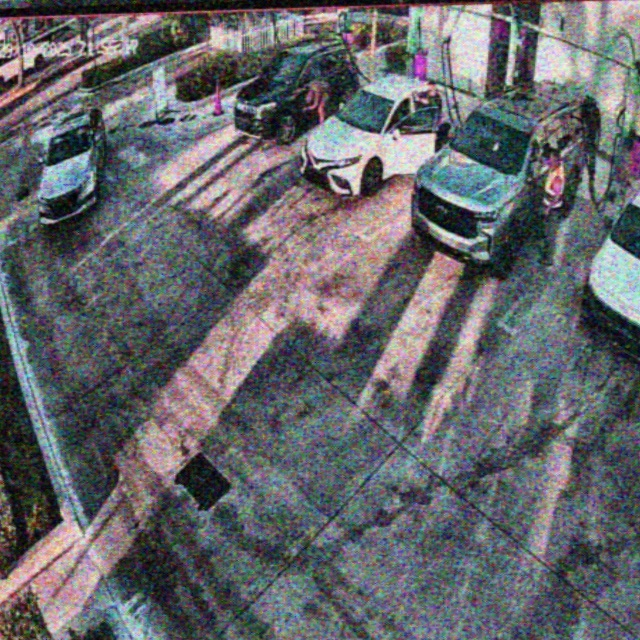Car: (411, 88, 598, 279), (304, 74, 460, 197)
